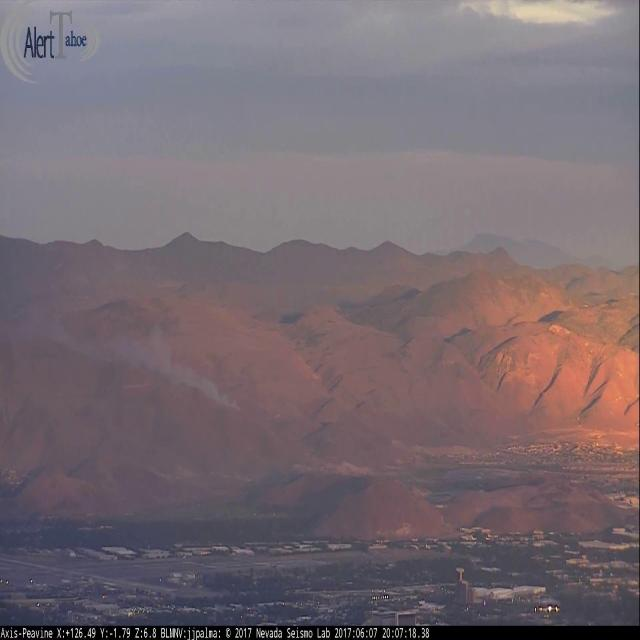smoke: (0, 289, 245, 415)
